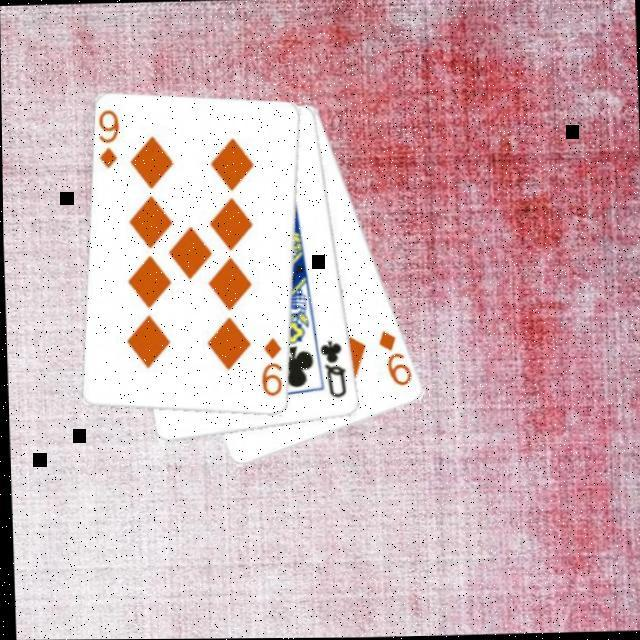9D: (372, 329, 412, 392), (254, 336, 283, 402), (92, 108, 120, 173)
QC: (314, 339, 348, 404)
